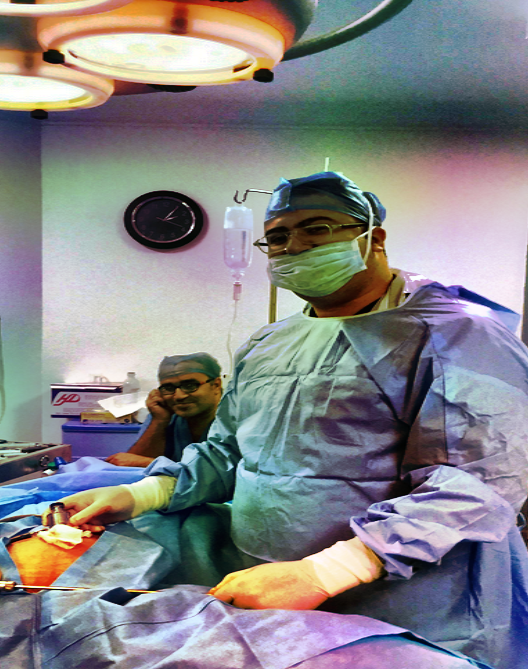mask_weared_incorrect: (245, 176, 387, 302)
